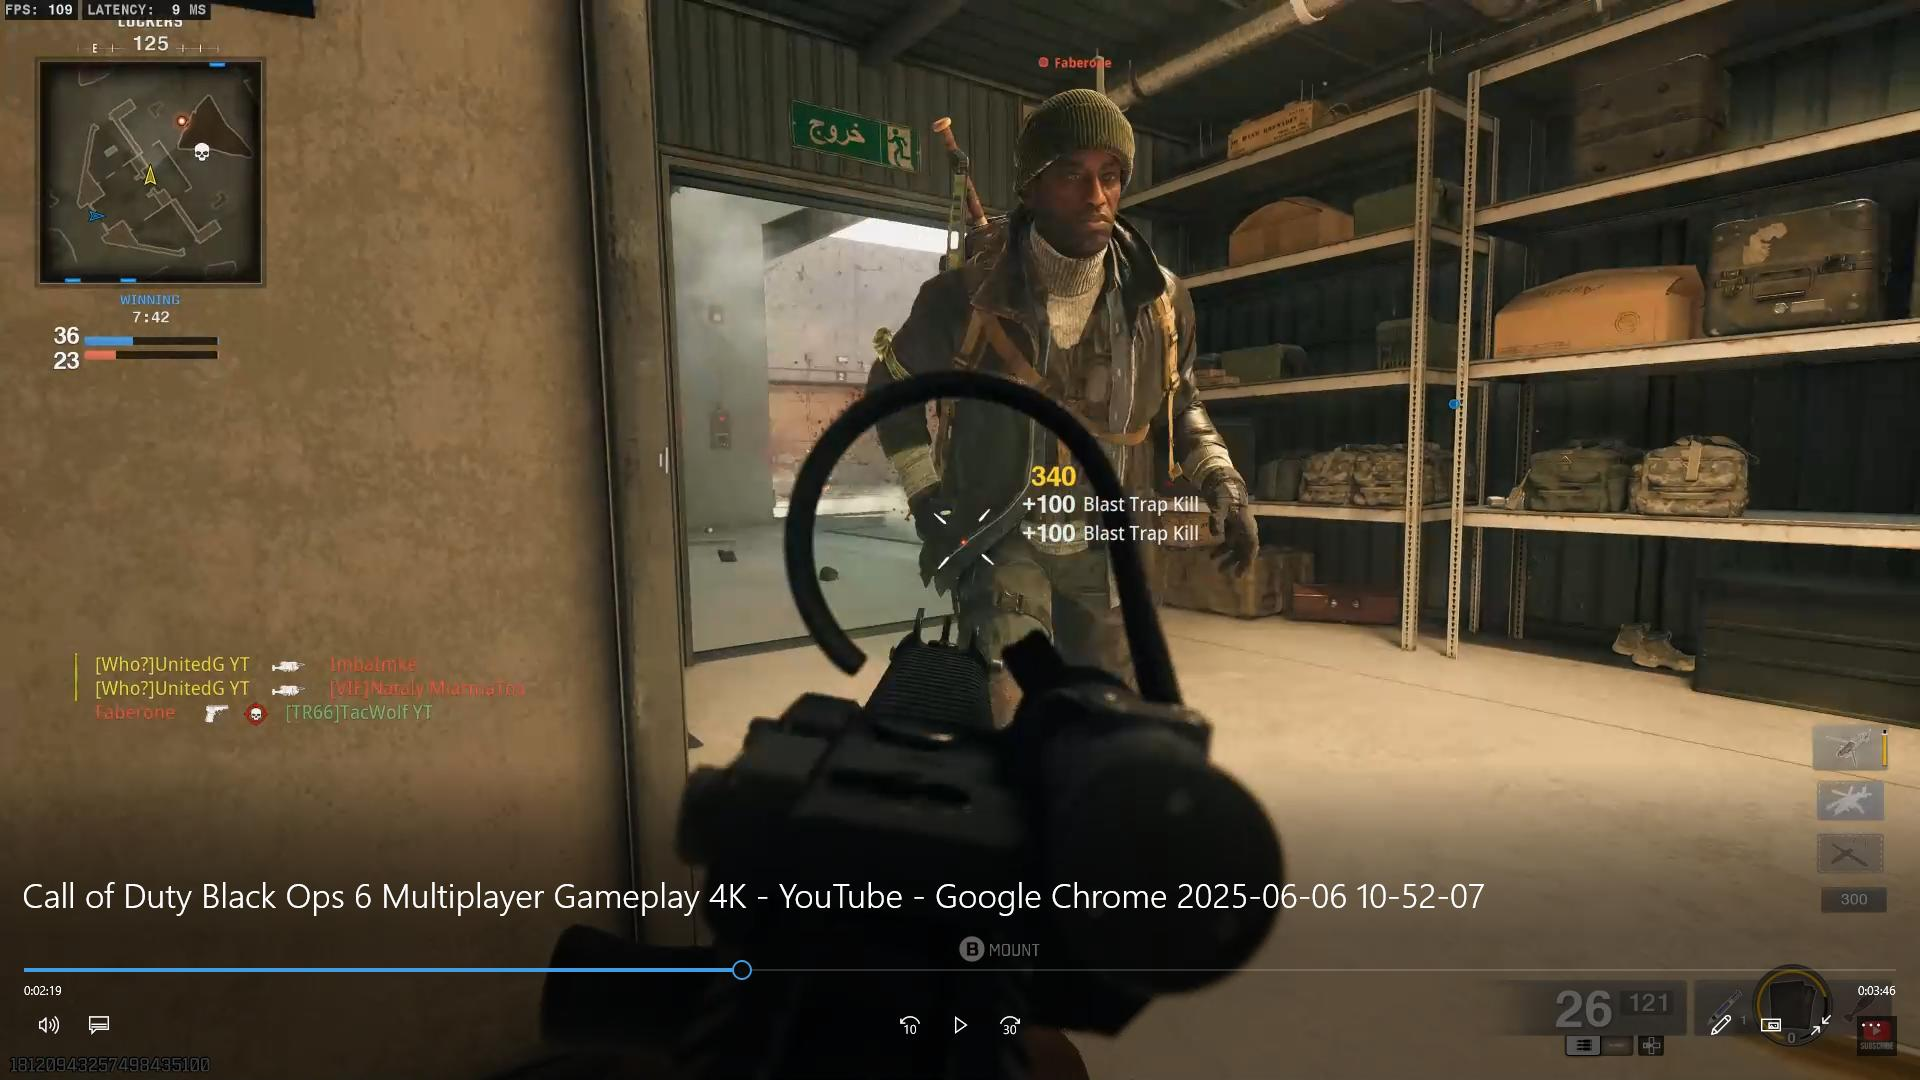Enemy: (914, 24, 1213, 380)
